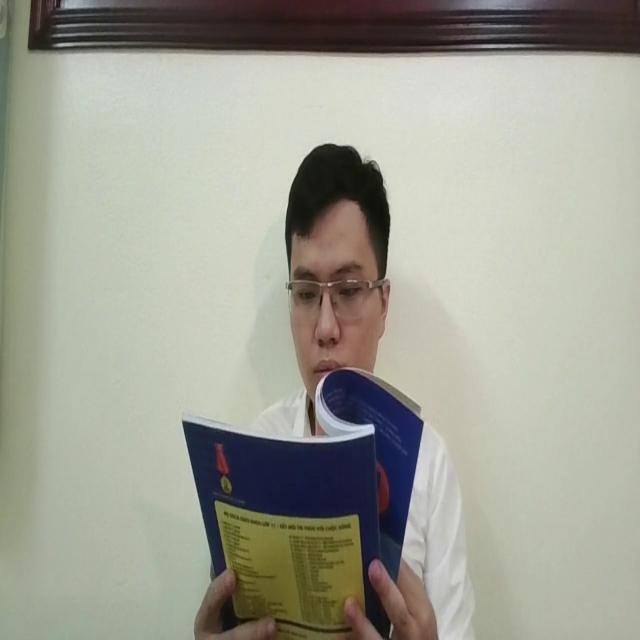book: (181, 362, 425, 640)
student: (254, 143, 475, 640)
